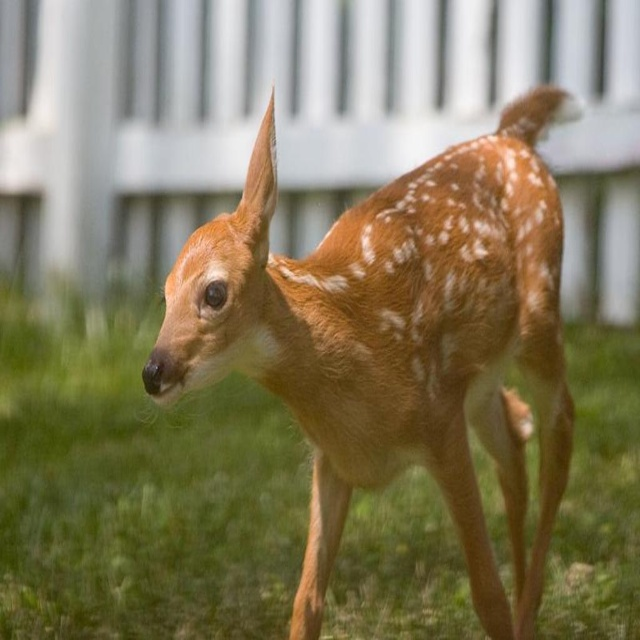Deer: (143, 80, 584, 639)
